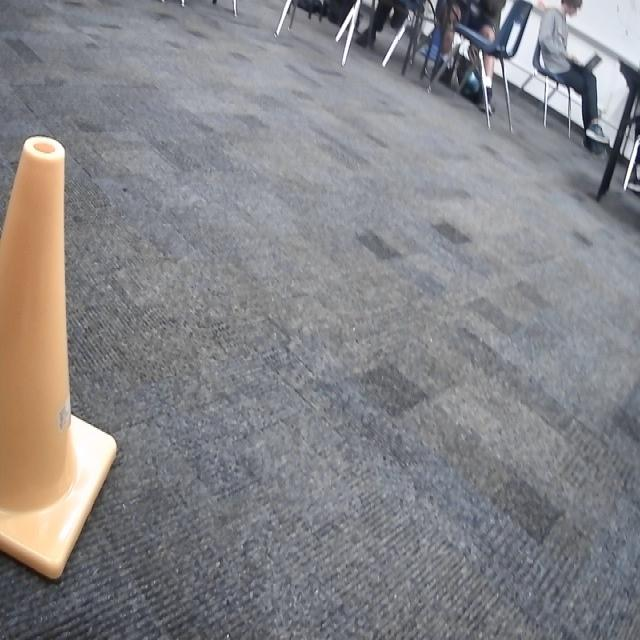cone: (0, 136, 120, 583)
